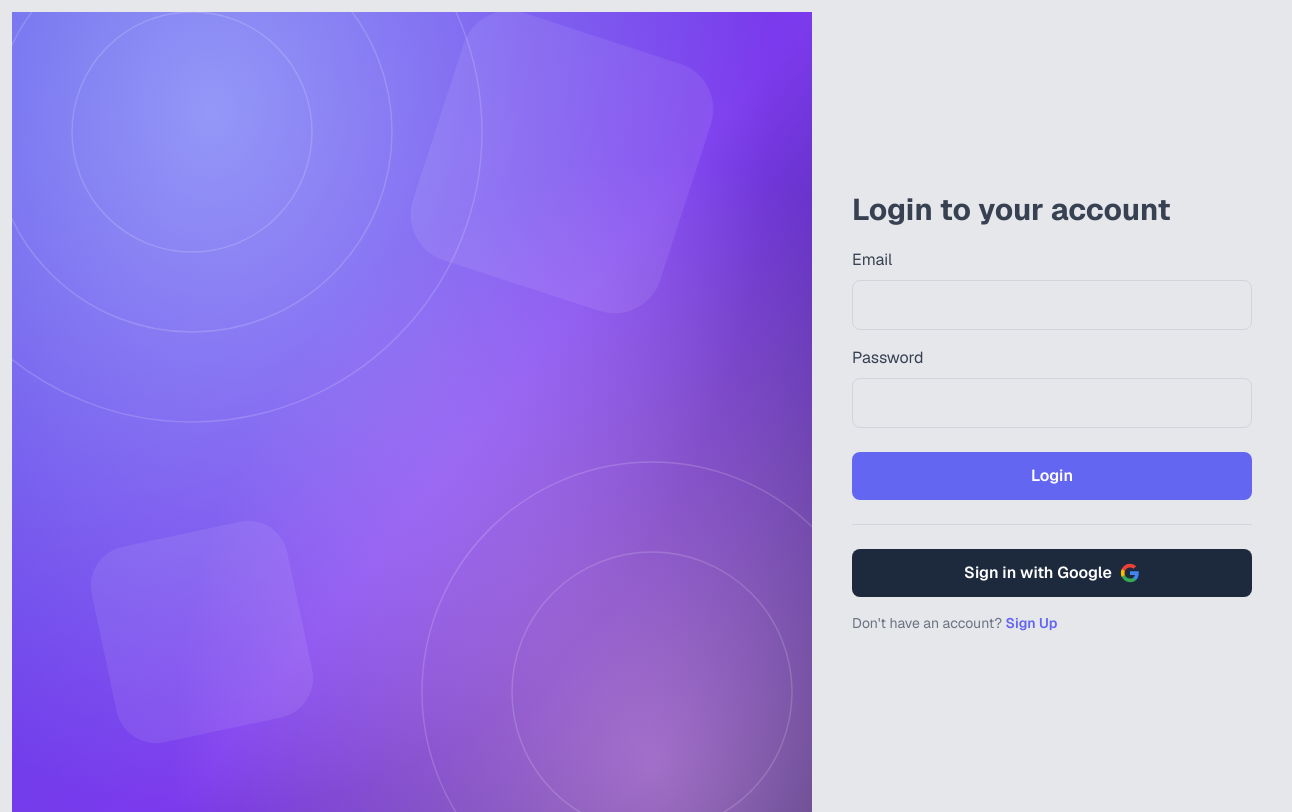
Página /authentication › alternância entre login e cadastro › mostra o campo de confirmação ao ir para o cadastro
Click the button "Sign Up" at (1032, 622), box [1006,612,1058,632]
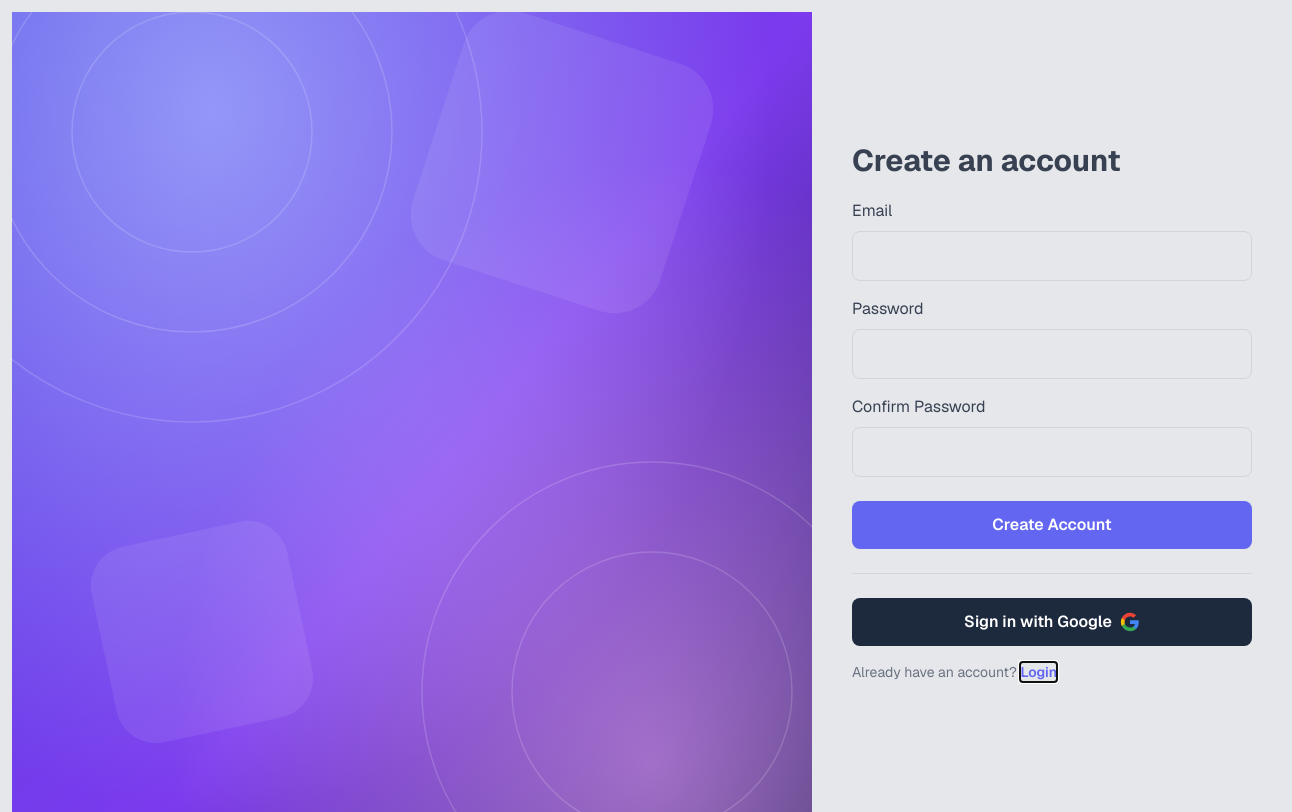
Now the heading "Create an account" is shown, box [852,140,1121,180]
Now the button "Create Account" is shown, box [852,500,1252,548]
